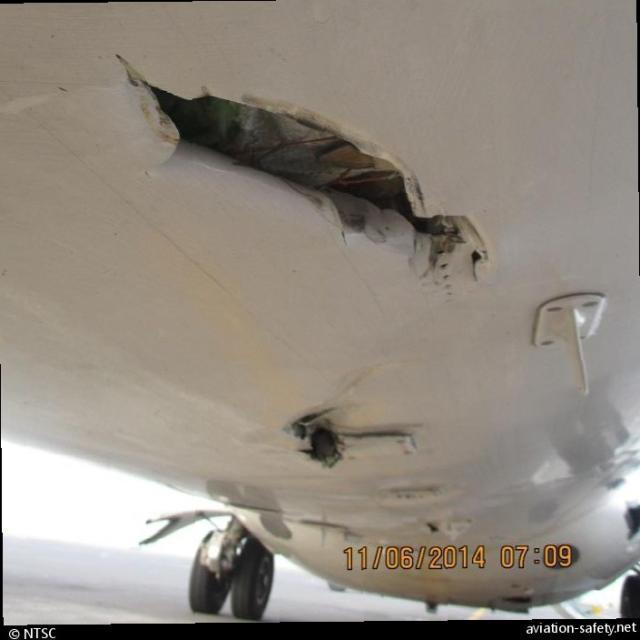crack: (109, 55, 491, 296)
